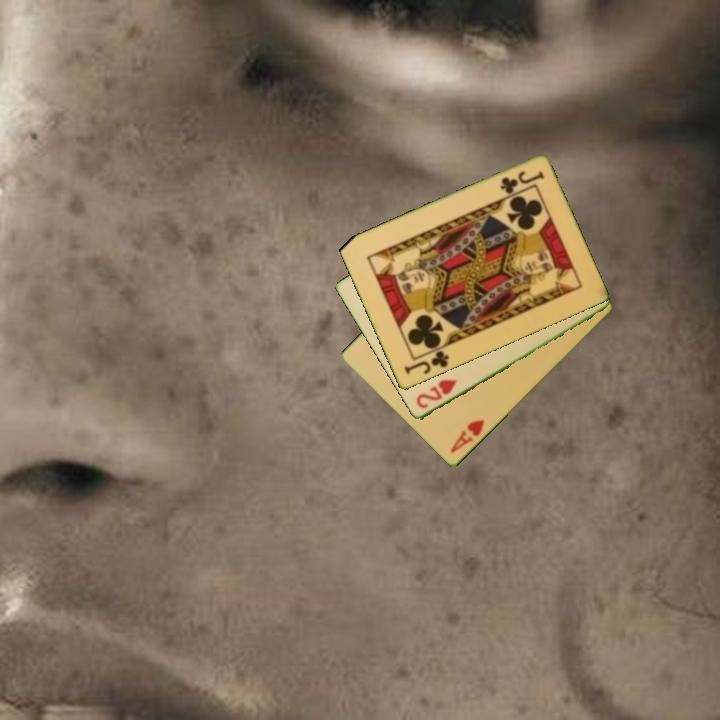2h: (412, 376, 460, 412)
Ah: (447, 416, 488, 456)
Jc: (400, 343, 452, 377), (497, 168, 547, 197)
